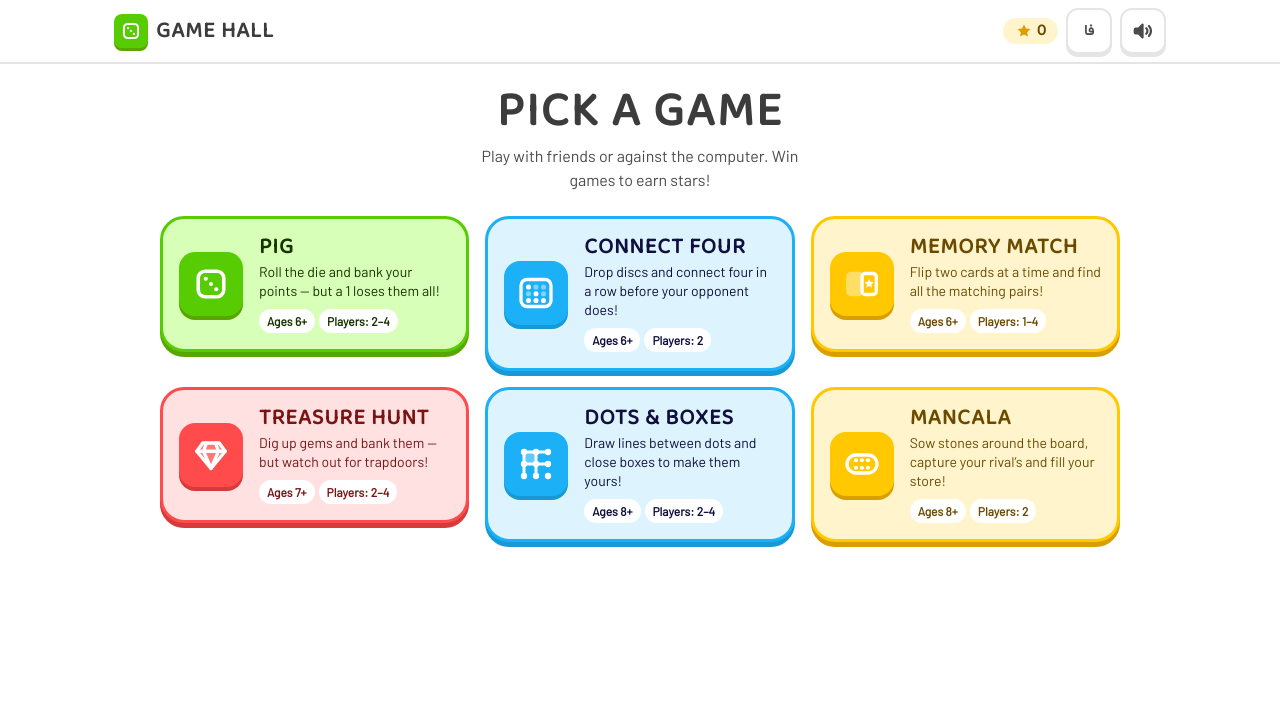
Memory — setup › opens from the lobby and offers players, sizes and seats
What coordinates should you click on to do the following:
click the link "Memory Match"
I would click on:
 (965, 284)
Its box is top-left (811, 216), bottom-right (1120, 352).
(page scrolled)
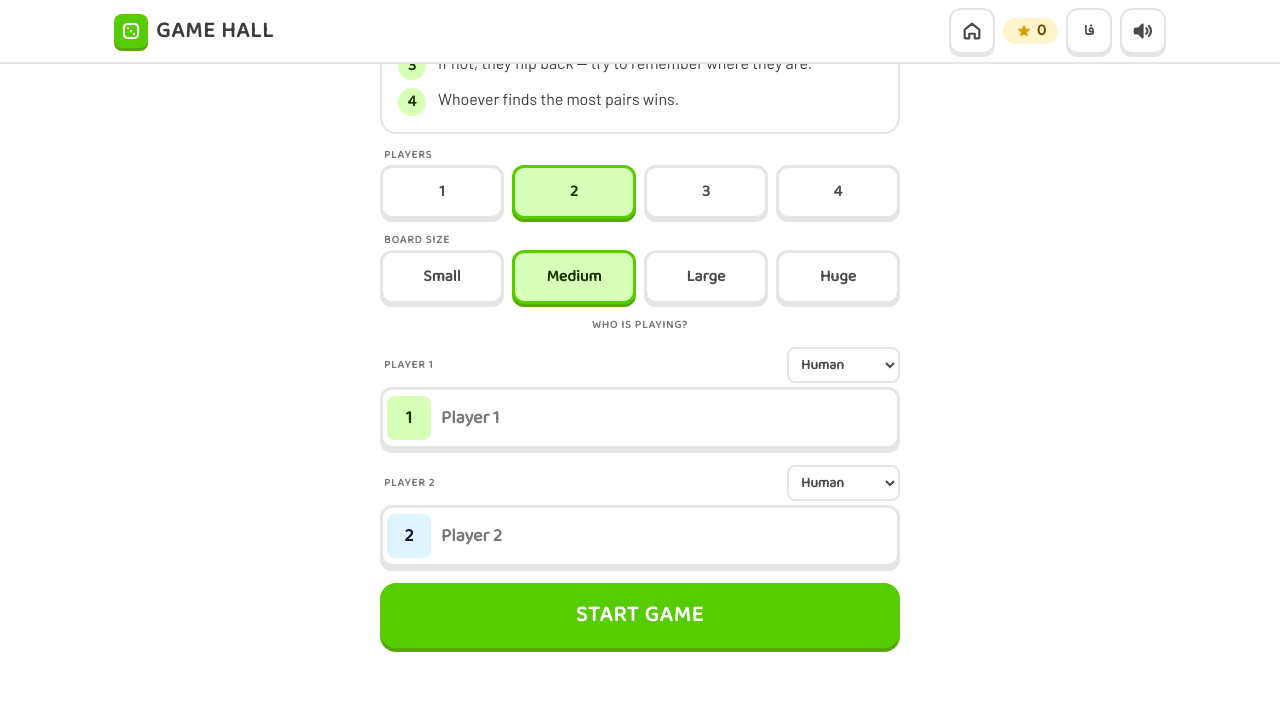
Check: the radio button labelled "Medium" is checked, box top-left (512, 250), bottom-right (636, 304)
Check: the radio button labelled "2" is checked, box top-left (512, 165), bottom-right (636, 219)
Check: the field labelled "Player 1" is shown, box top-left (439, 394), bottom-right (893, 442)
